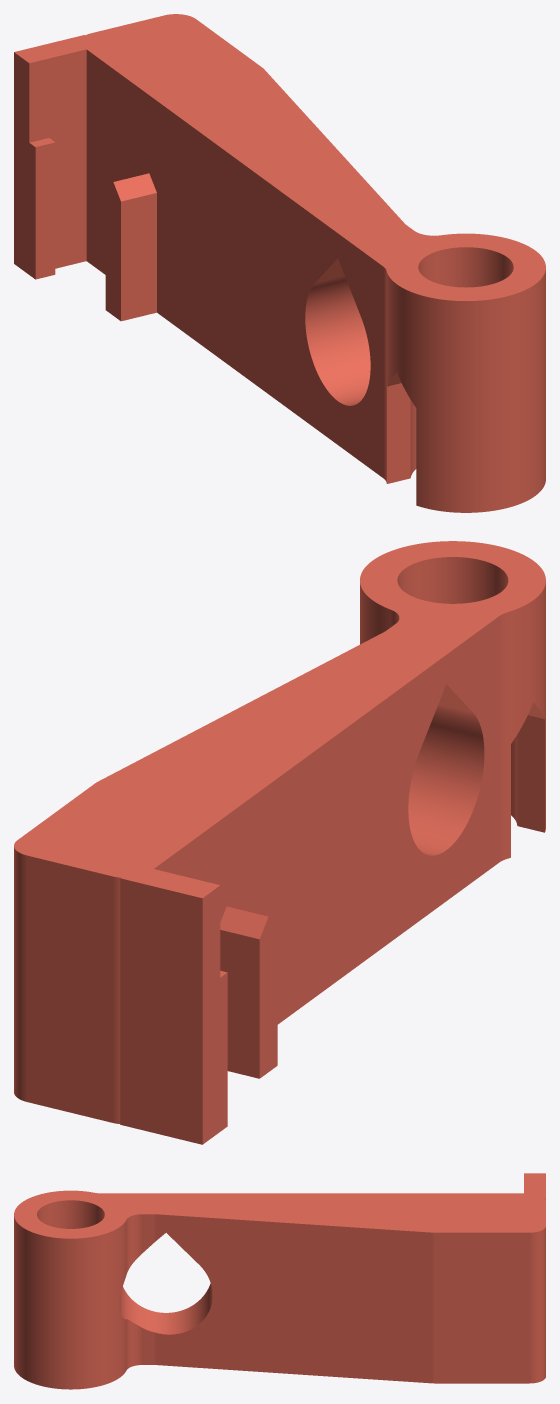
The model's file is lever.glb.
3 renders of one model, top to bottom at view 1: azimuth 30°, elevation 25°; view 2: azimuth 150°, elevation 25°; view 3: azimuth 270°, elevation 25°, orthographic. The views are drawn at different scales.
Visible parts, largest first — view 1: =>[0:1:1:3]; view 2: =>[0:1:1:3]; view 3: =>[0:1:1:3].
Boxes of the visible parts, x1=… form: =>[0:1:1:3]: x1=14, y1=14, x2=545, y2=512; =>[0:1:1:3]: x1=14, y1=541, x2=545, y2=1144; =>[0:1:1:3]: x1=14, y1=1173, x2=545, y2=1389.
Size of the model in its own units: 0.0141 by 0.0152 by 0.0486.
